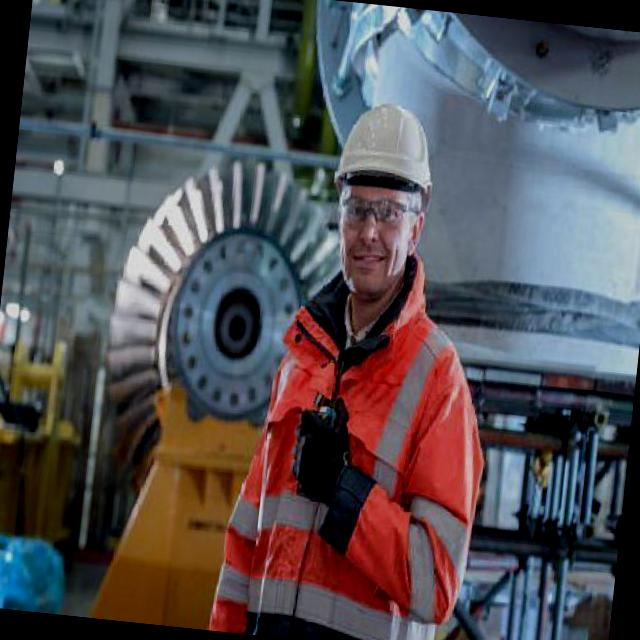vest: (208, 235, 503, 640)
